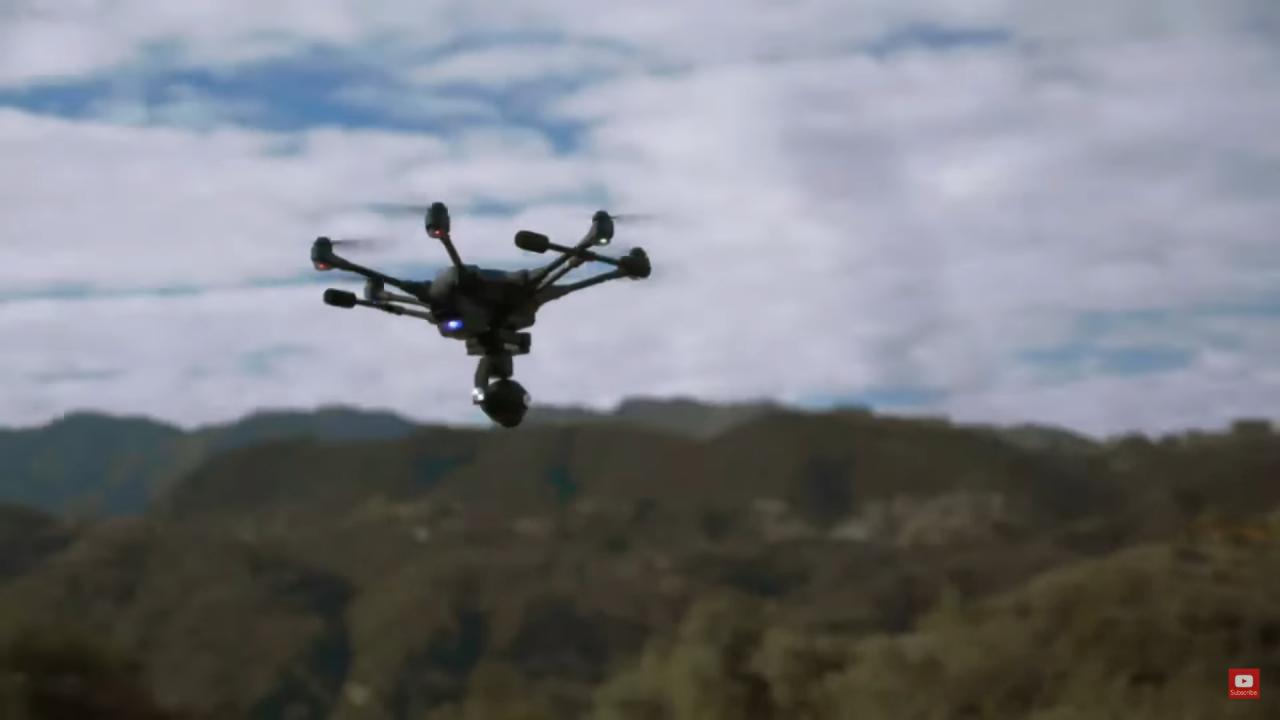Drone: (290, 186, 664, 450)
